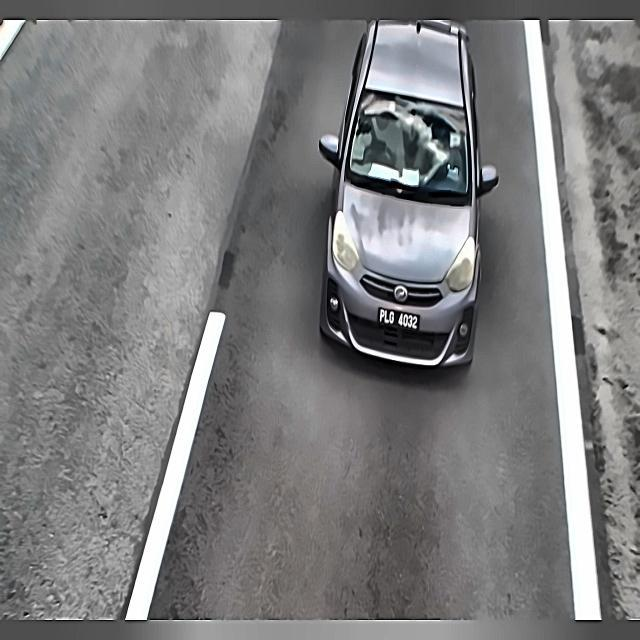car: (374, 300, 427, 336)
